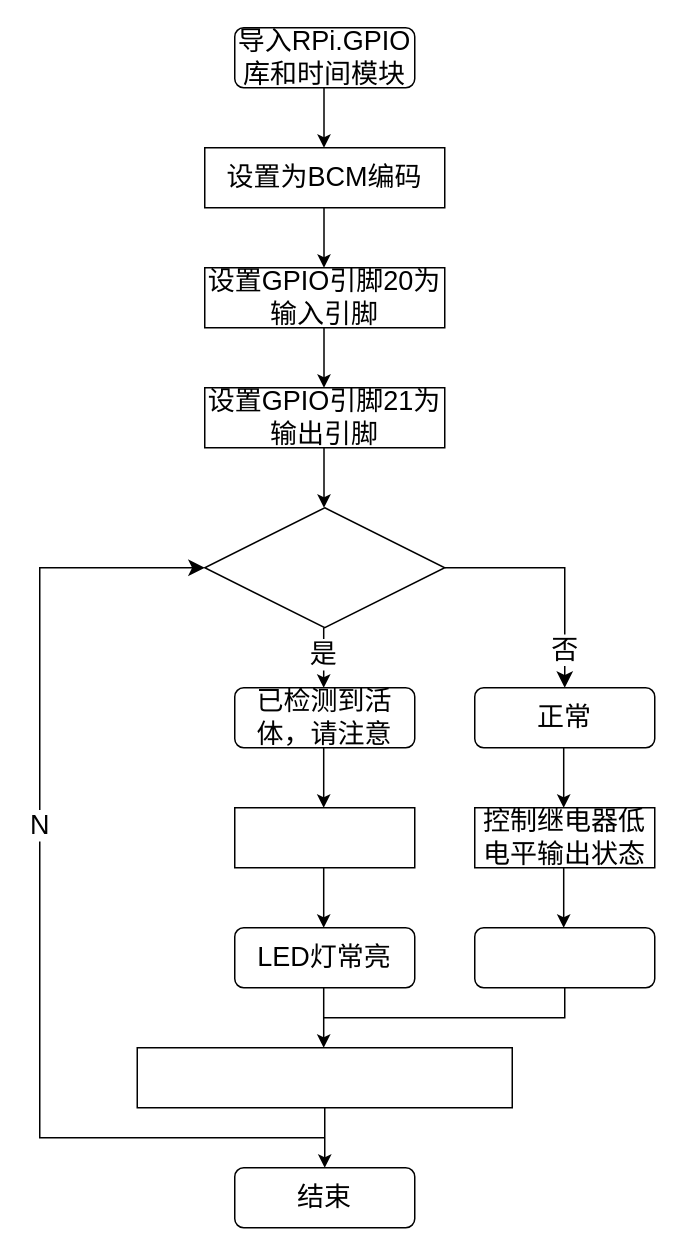
This 681x1254 diagram has some shape labels left out. The centre of each missing label's shape, as x and y in pixels:
LED灯熄灭: the point at 564,957
循环重新开始之前暂停1秒钟: the point at 324,1077
控制继电器高电平输出状态: the point at 324,837
检测到活体？: the point at 324,567
